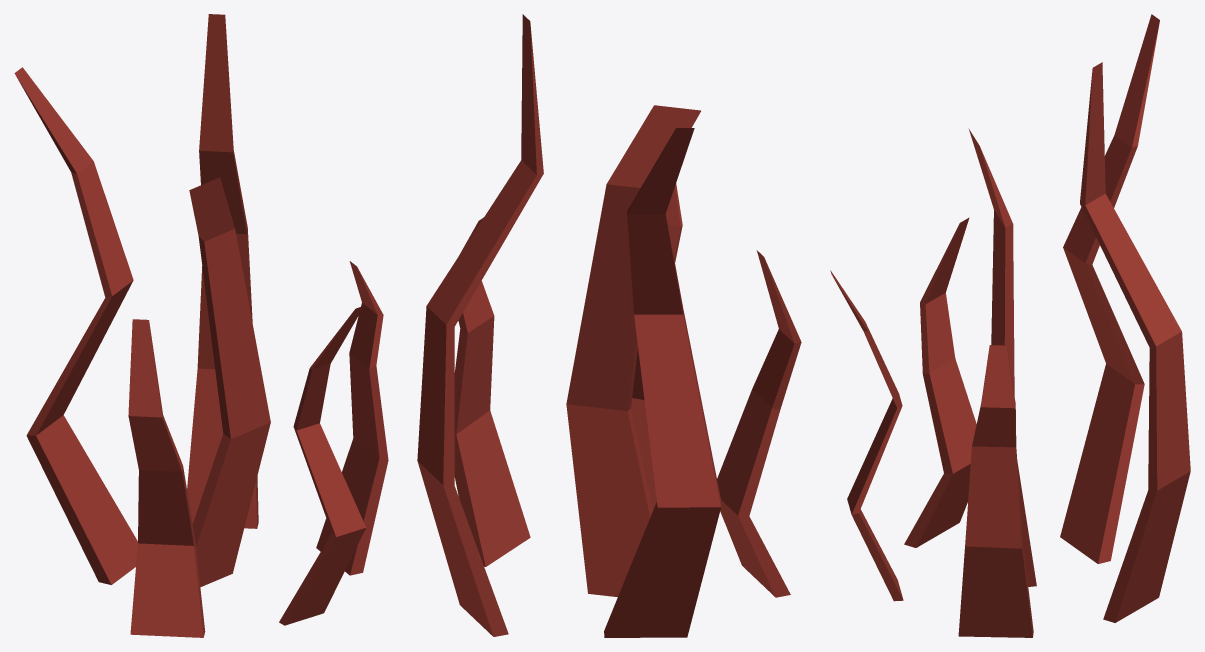
Rendered from Grass_5_Red.fbx.
3 renders of one model, left to right at view 1: azimuth 30°, elevation 25°; view 2: azimuth 150°, elevation 25°; view 3: azimuth 270°, elevation 25°, orthographic. The views are drawn at different scales.
Visible parts, largest first — view 1: Grass_5_Red; view 2: Grass_5_Red; view 3: Grass_5_Red.
Part boxes in pixels (left/top/right/bottom): Grass_5_Red: left=14, top=14, right=388, bottom=637; Grass_5_Red: left=417, top=14, right=801, bottom=637; Grass_5_Red: left=830, top=14, right=1190, bottom=637.
Size of the model in its own units: 22.89 by 39.47 by 24.19.
